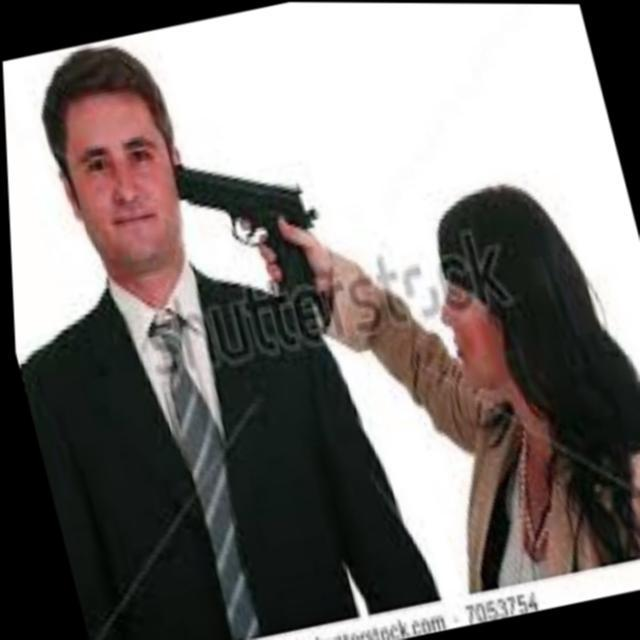weapon: (162, 132, 340, 336)
